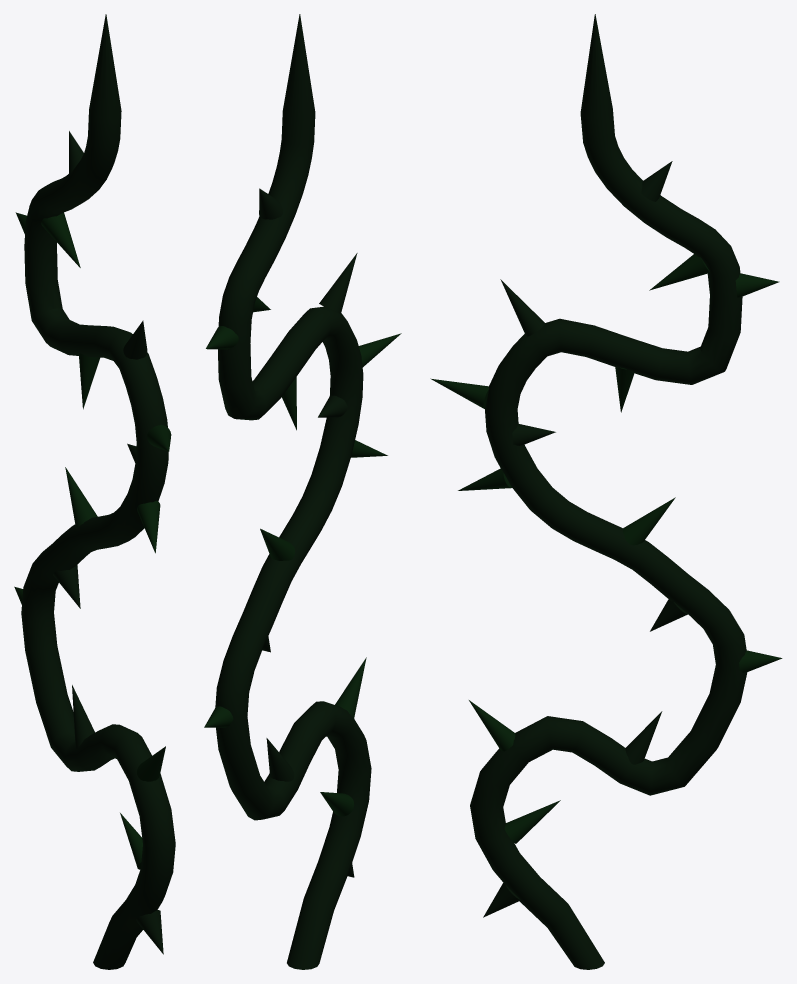
Rendered from PlanteAng.FBX.
3 renders of one model, left to right at view 1: azimuth 30°, elevation 25°; view 2: azimuth 150°, elevation 25°; view 3: azimuth 270°, elevation 25°, orthographic.
Parts seen in each view (by area): view 1: Line001, Cone007, Cone008, Cone003, Cone011, Cone004, Cone016, Cone013, Cone010, Cone014, Cone015, Cone002; view 2: Line001, Cone013, Cone010, Cone011, Cone008, Cone015, Cone006, Cone005, Cone002, Cone009, Cone012; view 3: Line001, Cone008, Cone013, Cone007, Cone015, Cone010, Cone011.
Boxes of the visible parts, bbox=[...] form: Line001: bbox=[21, 14, 175, 969]; Cone007: bbox=[41, 212, 80, 267]; Cone008: bbox=[65, 467, 97, 528]; Cone003: bbox=[137, 500, 160, 553]; Cone011: bbox=[72, 685, 94, 748]; Cone004: bbox=[78, 353, 99, 409]; Cone016: bbox=[136, 910, 163, 954]; Cone013: bbox=[123, 320, 147, 359]; Cone010: bbox=[137, 746, 165, 781]; Cone014: bbox=[53, 565, 80, 608]; Cone015: bbox=[120, 813, 142, 869]; Cone002: bbox=[147, 424, 171, 451]; Line001: bbox=[215, 14, 371, 969]; Cone013: bbox=[319, 253, 357, 313]; Cone010: bbox=[335, 657, 366, 718]; Cone011: bbox=[266, 738, 294, 781]; Cone008: bbox=[260, 528, 294, 560]; Cone015: bbox=[320, 792, 354, 816]; Cone006: bbox=[206, 326, 238, 349]; Cone005: bbox=[259, 188, 283, 219]; Cone002: bbox=[359, 333, 401, 367]; Cone009: bbox=[318, 395, 347, 417]; Cone012: bbox=[204, 706, 233, 727]; Line001: bbox=[470, 14, 747, 969]; Cone008: bbox=[622, 497, 675, 545]; Cone013: bbox=[500, 279, 545, 336]; Cone007: bbox=[649, 254, 709, 290]; Cone015: bbox=[504, 800, 560, 843]; Cone010: bbox=[469, 700, 515, 751]; Cone011: bbox=[625, 711, 662, 764].
Bounding box in the file's own units: 6.49 × 173 × 58.19.
